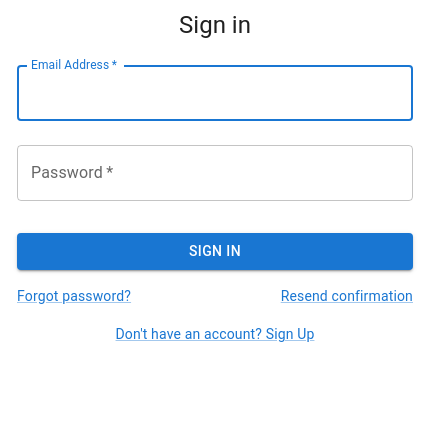
Test: Login Component › shows error on sign in failure
In the field labelled "Email Address *": (215, 93) [17,65,413,121], type "test@example.com"
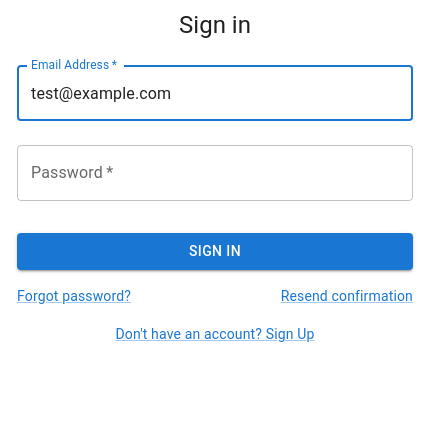
In the password field labelled "Password *": (215, 173) [17,145,413,201], type "wrongpassword"
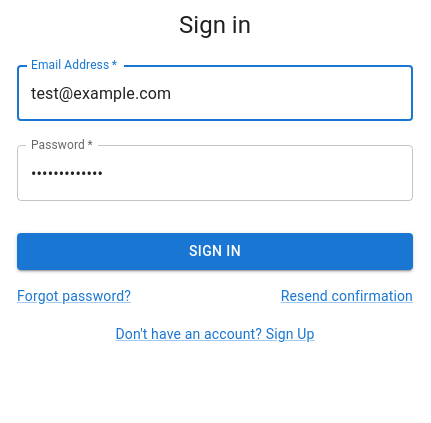
Click the button "Sign In": (215, 251) [17,233,413,270]
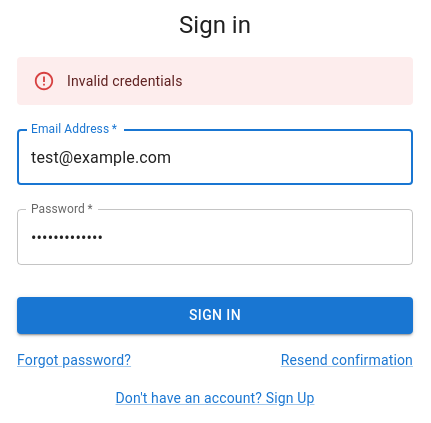
Check: the text "Invalid credentials" is shown, box [67,73,182,89]
